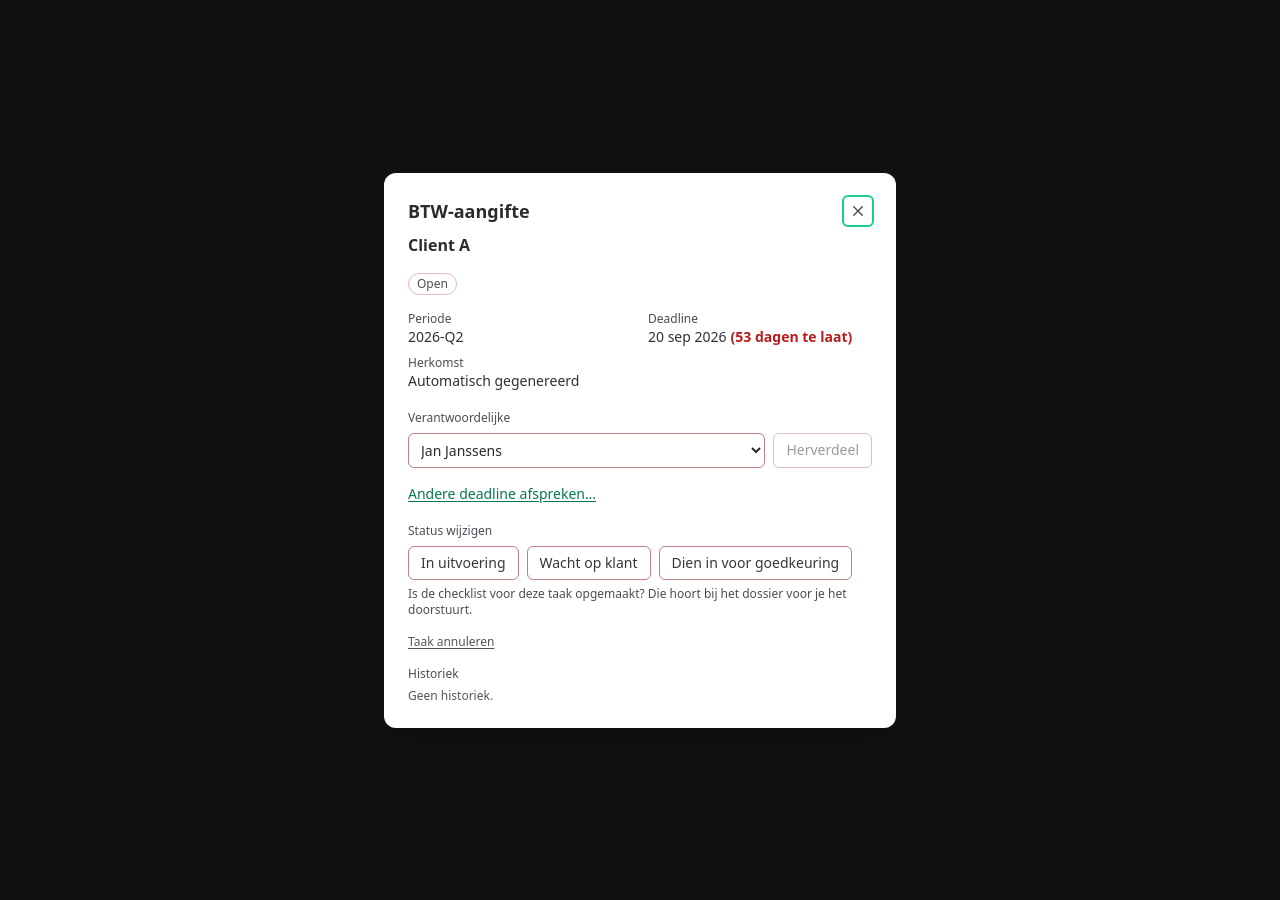
Scenario: TaskDetailModal — deadline handmatig verzetten (bevinding L) › houdt het verzetten dicht tot iemand erom vraagt
Click the button "Andere deadline afspreken…".
click(502, 494)  # box [408,484,596,504]
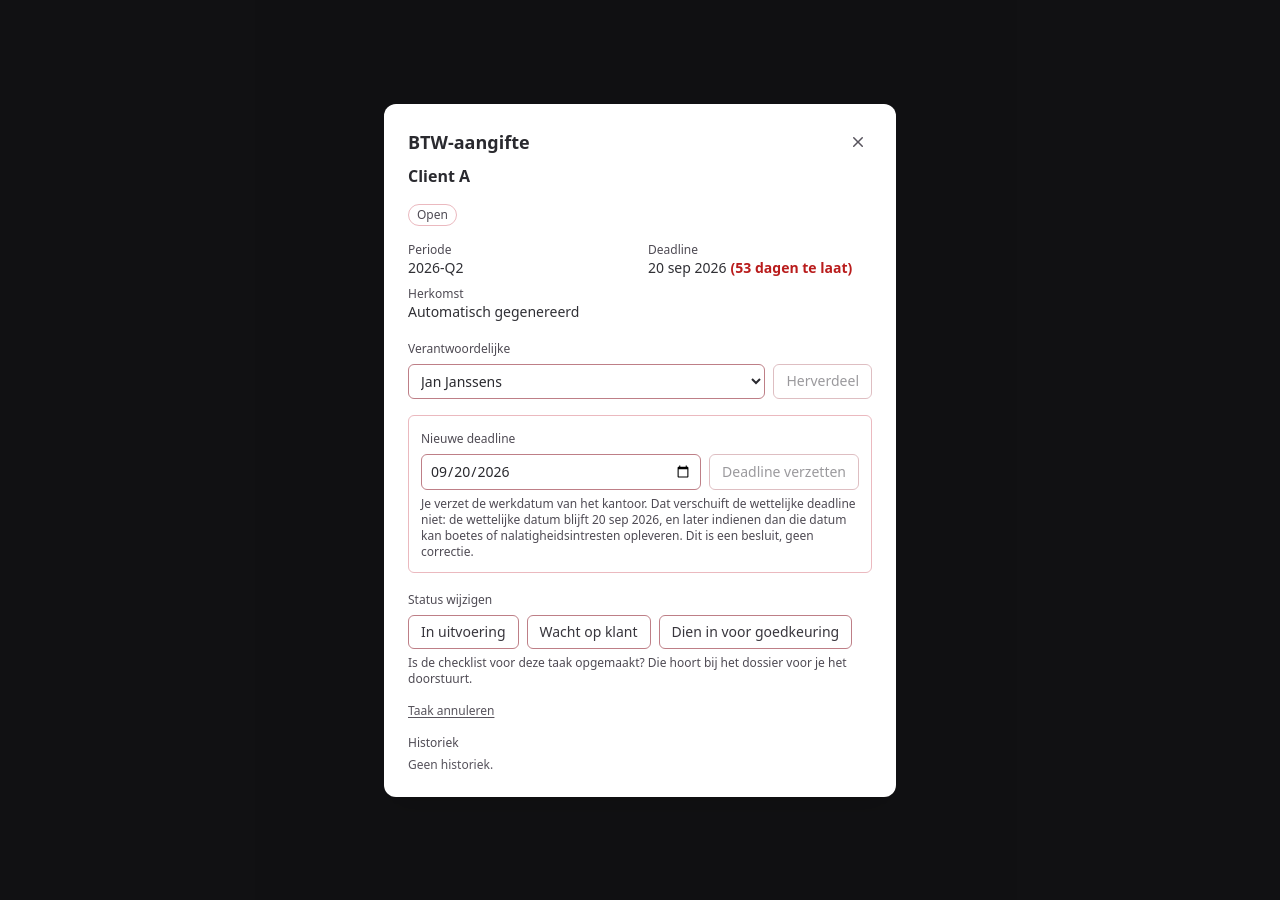
Now the date field labelled "Nieuwe deadline" is shown, box [421,454,701,490]
